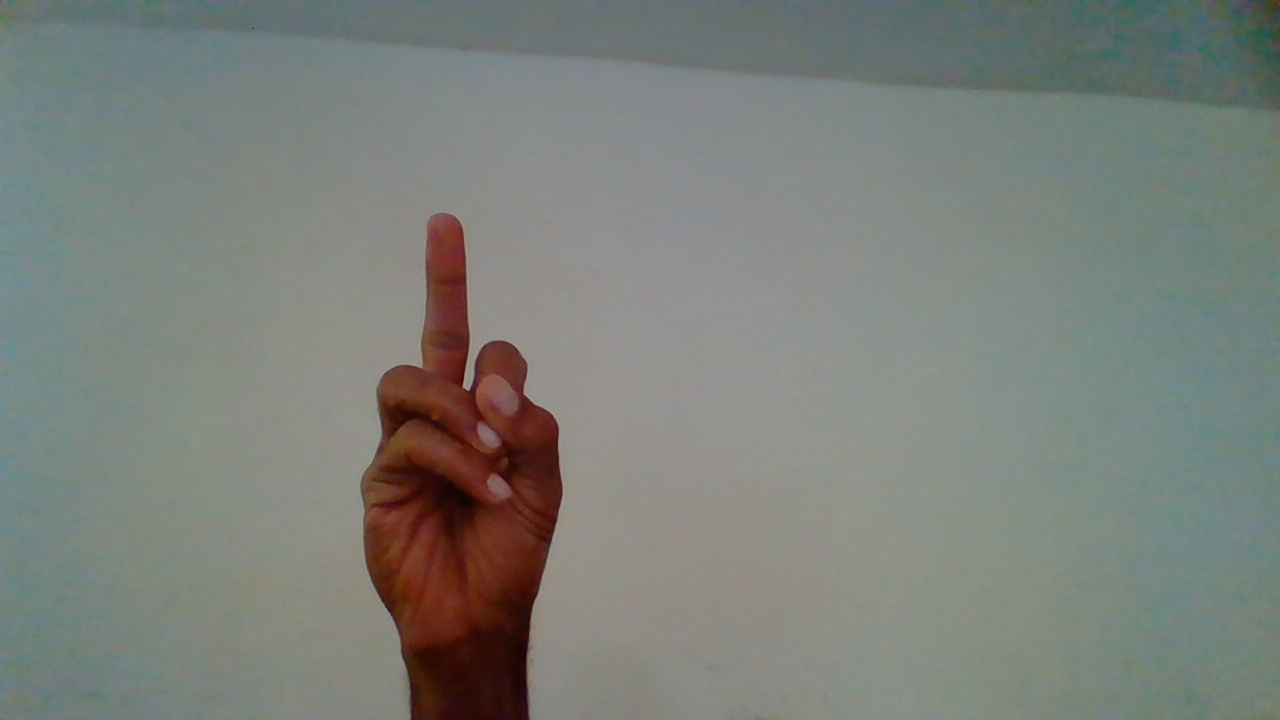he: (356, 215, 568, 705)
